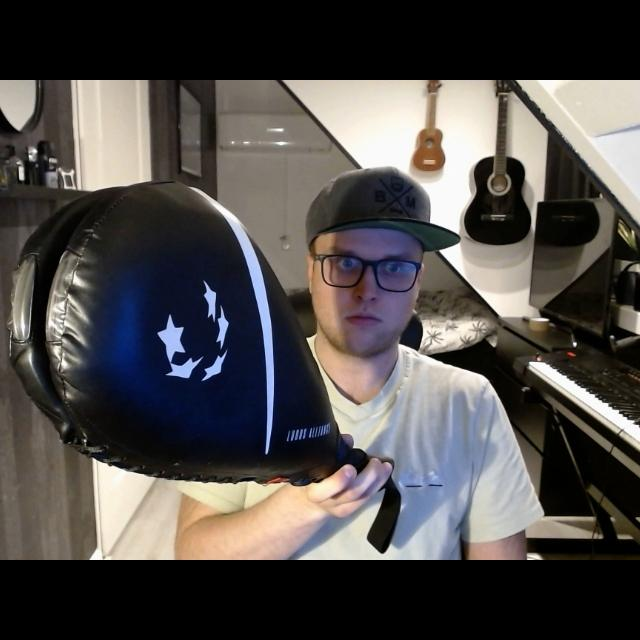paddle: (10, 179, 395, 498)
